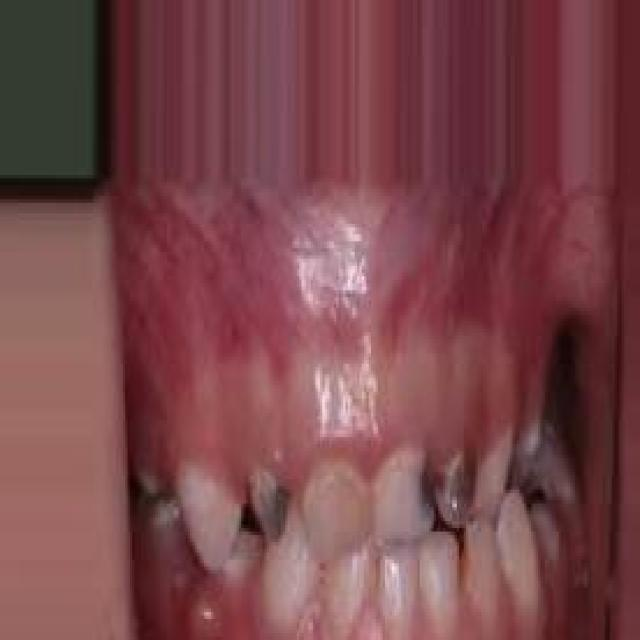caries: (248, 457, 294, 548), (436, 448, 481, 536), (396, 450, 435, 536)
